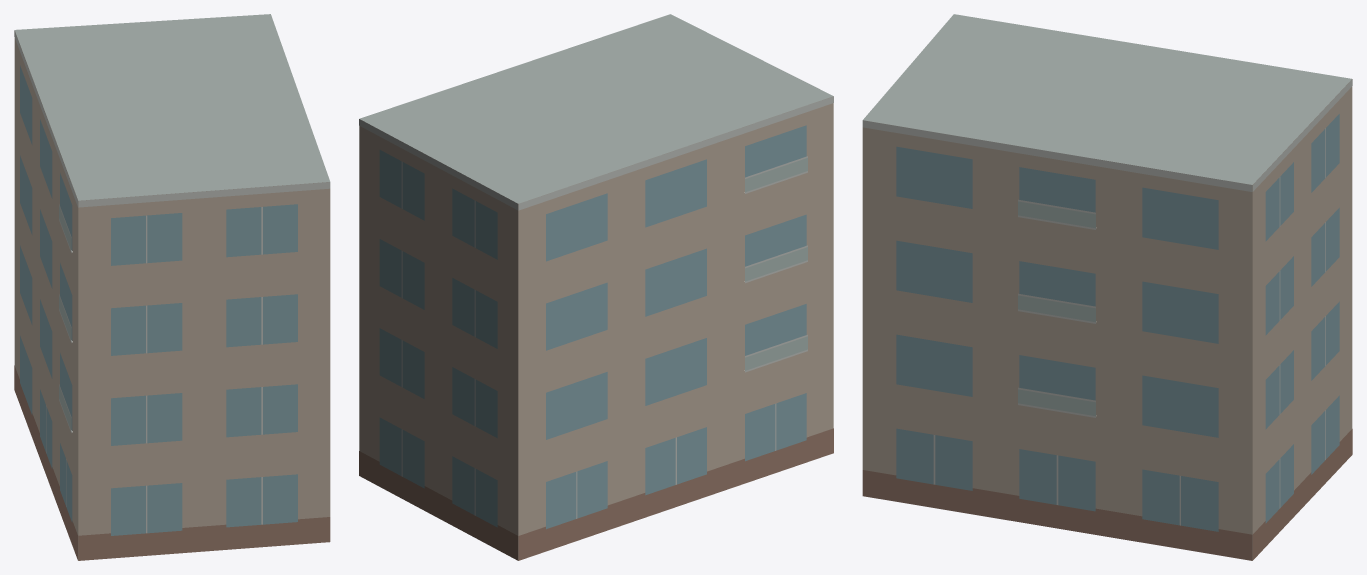
File: survey-upis-32759678.glb
The picture shows the model from 3 angles, left to right: view 1: azimuth 30°, elevation 25°; view 2: azimuth 150°, elevation 25°; view 3: azimuth 270°, elevation 25°; orthographic projection. The views are drawn at different scales.
Parts seen in each view (by area): view 1: survey-upis-32759678.tmp; view 2: survey-upis-32759678.tmp; view 3: survey-upis-32759678.tmp.
Part boxes in pixels (x1,y1,x2,y2): survey-upis-32759678.tmp: (14,14,330,560); survey-upis-32759678.tmp: (359,14,833,560); survey-upis-32759678.tmp: (862,14,1352,560).
Size of the model in its own units: 12.5 by 12.8 by 15.12.
